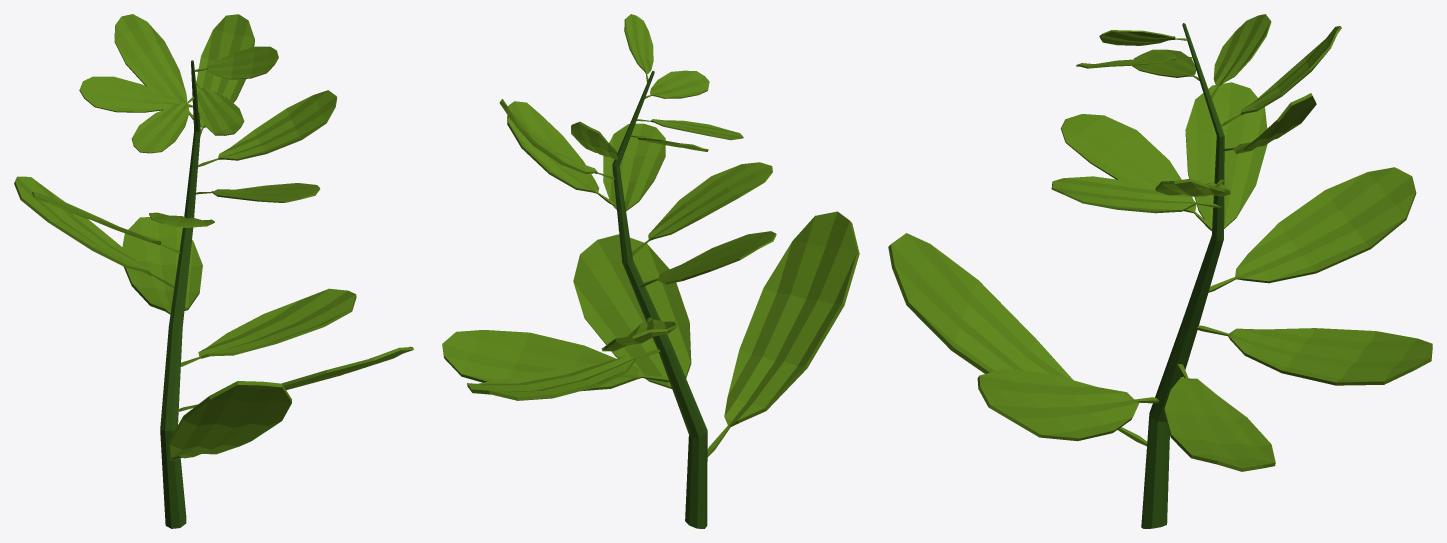
Rendered from plant.fbx.
3 renders of one model, left to right at view 1: azimuth 30°, elevation 25°; view 2: azimuth 150°, elevation 25°; view 3: azimuth 270°, elevation 25°, orthographic. The views are drawn at different scales.
Parts seen in each view (by area): view 1: Leaves, Stem; view 2: Leaves, Stem; view 3: Leaves, Stem.
Part boxes in pixels (<box>): Leaves: <box>14,14,413,460</box>; Stem: <box>160,60,200,528</box>; Leaves: <box>442,14,859,456</box>; Stem: <box>612,71,707,528</box>; Leaves: <box>888,14,1432,471</box>; Stem: <box>1141,23,1224,528</box>.
Size of the model in its own units: 790 by 1106 by 999.
